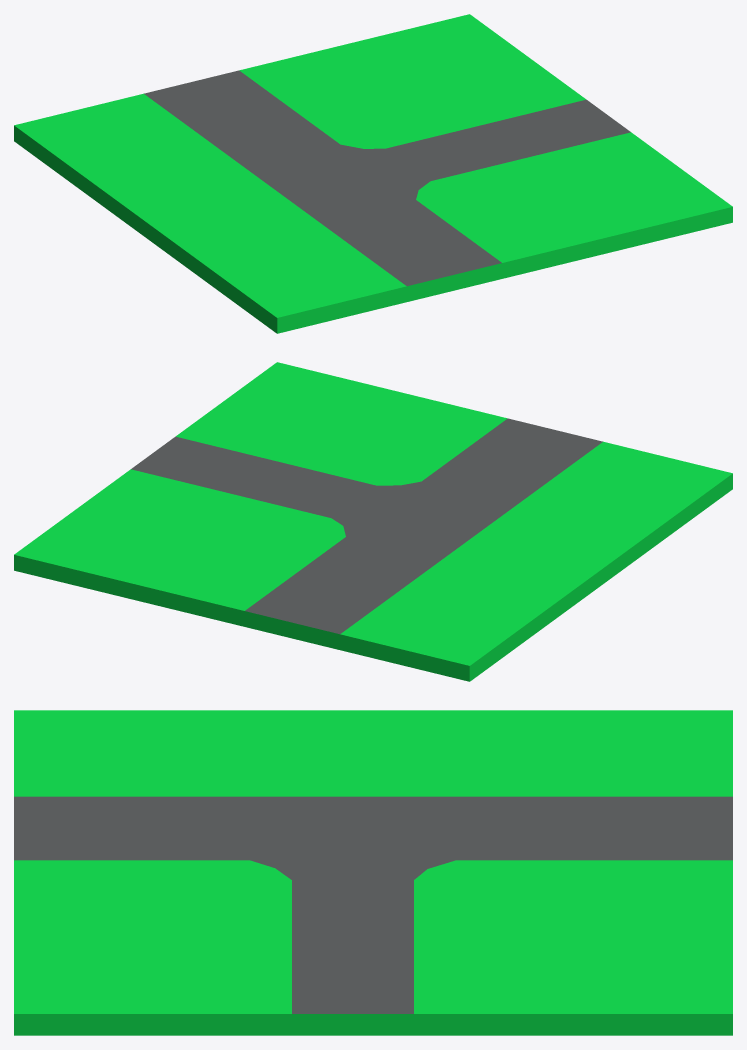
The model's file is Road.fbx.
3 renders of one model, top to bottom at view 1: azimuth 30°, elevation 25°; view 2: azimuth 150°, elevation 25°; view 3: azimuth 270°, elevation 25°, orthographic. The views are drawn at different scales.
Visible parts, largest first — view 1: Road; view 2: Road; view 3: Road.
Boxes of the visible parts, x1,y1,x2,y2 form: Road: (14, 14, 732, 333); Road: (14, 362, 732, 681); Road: (14, 710, 732, 1035).
Bounding box in the file's own units: 6000 × 200 × 6000.
